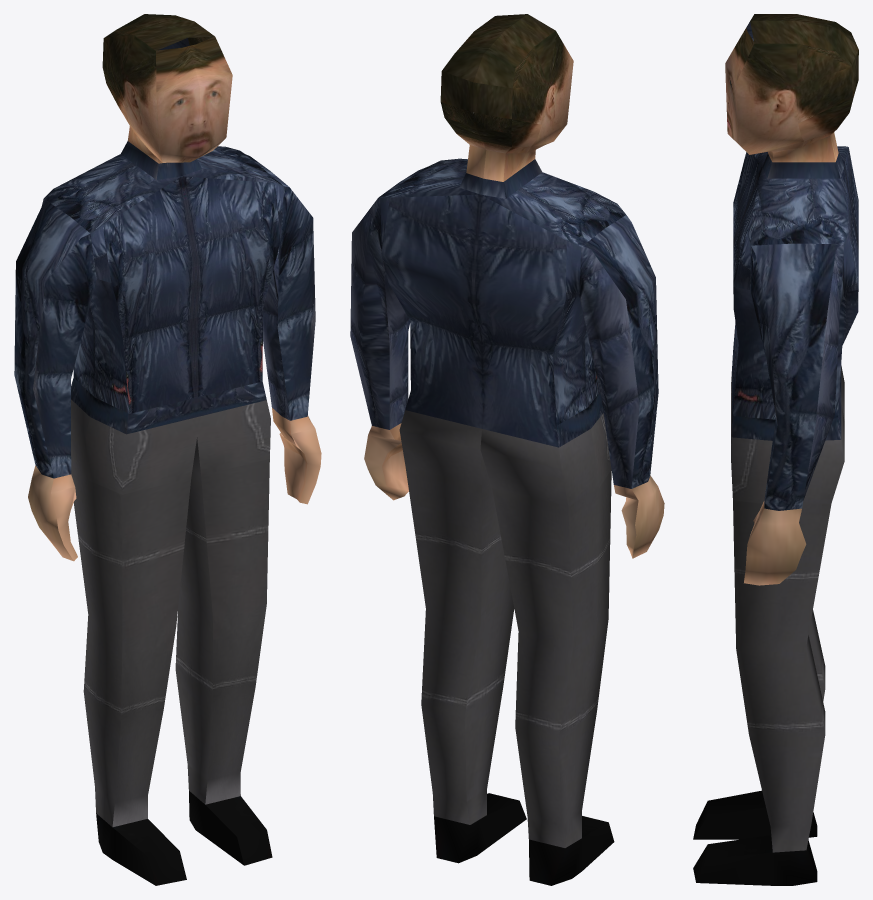
Rendered from NPC3.fbx.
3 renders of one model, left to right at view 1: azimuth 30°, elevation 25°; view 2: azimuth 150°, elevation 25°; view 3: azimuth 270°, elevation 25°, orthographic. The views are drawn at different scales.
Parts seen in each view (by area): view 1: Human; view 2: Human; view 3: Human.
Part boxes in pixels (box(x1,y1,x2,y2)): Human: box(14, 14, 321, 885); Human: box(350, 14, 664, 885); Human: box(693, 14, 858, 885).
Bounding box in the file's own units: 244 × 655 × 118.
1 material, 1 textured.
